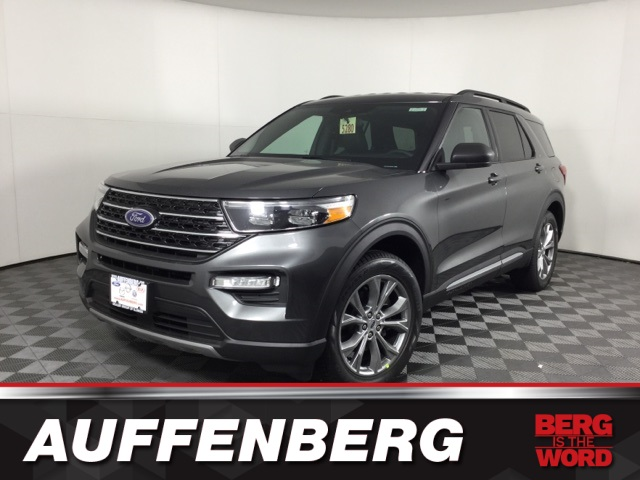Ford Explorer: (72, 82, 573, 384)
